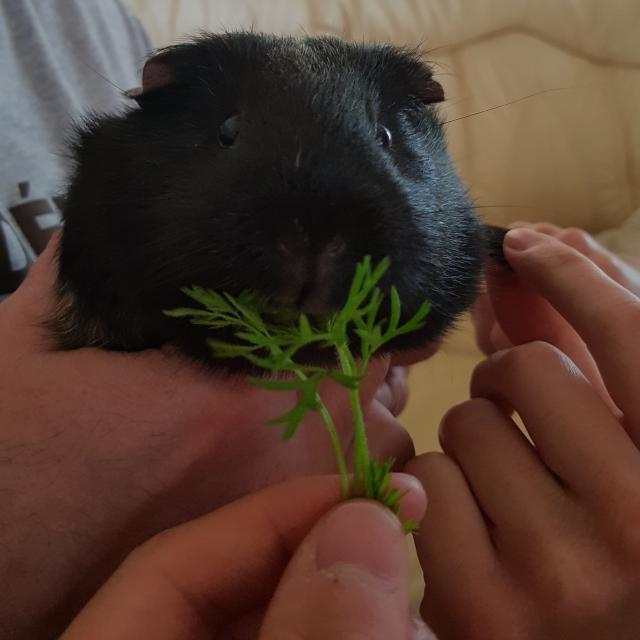guinea pig: (39, 24, 490, 378)
